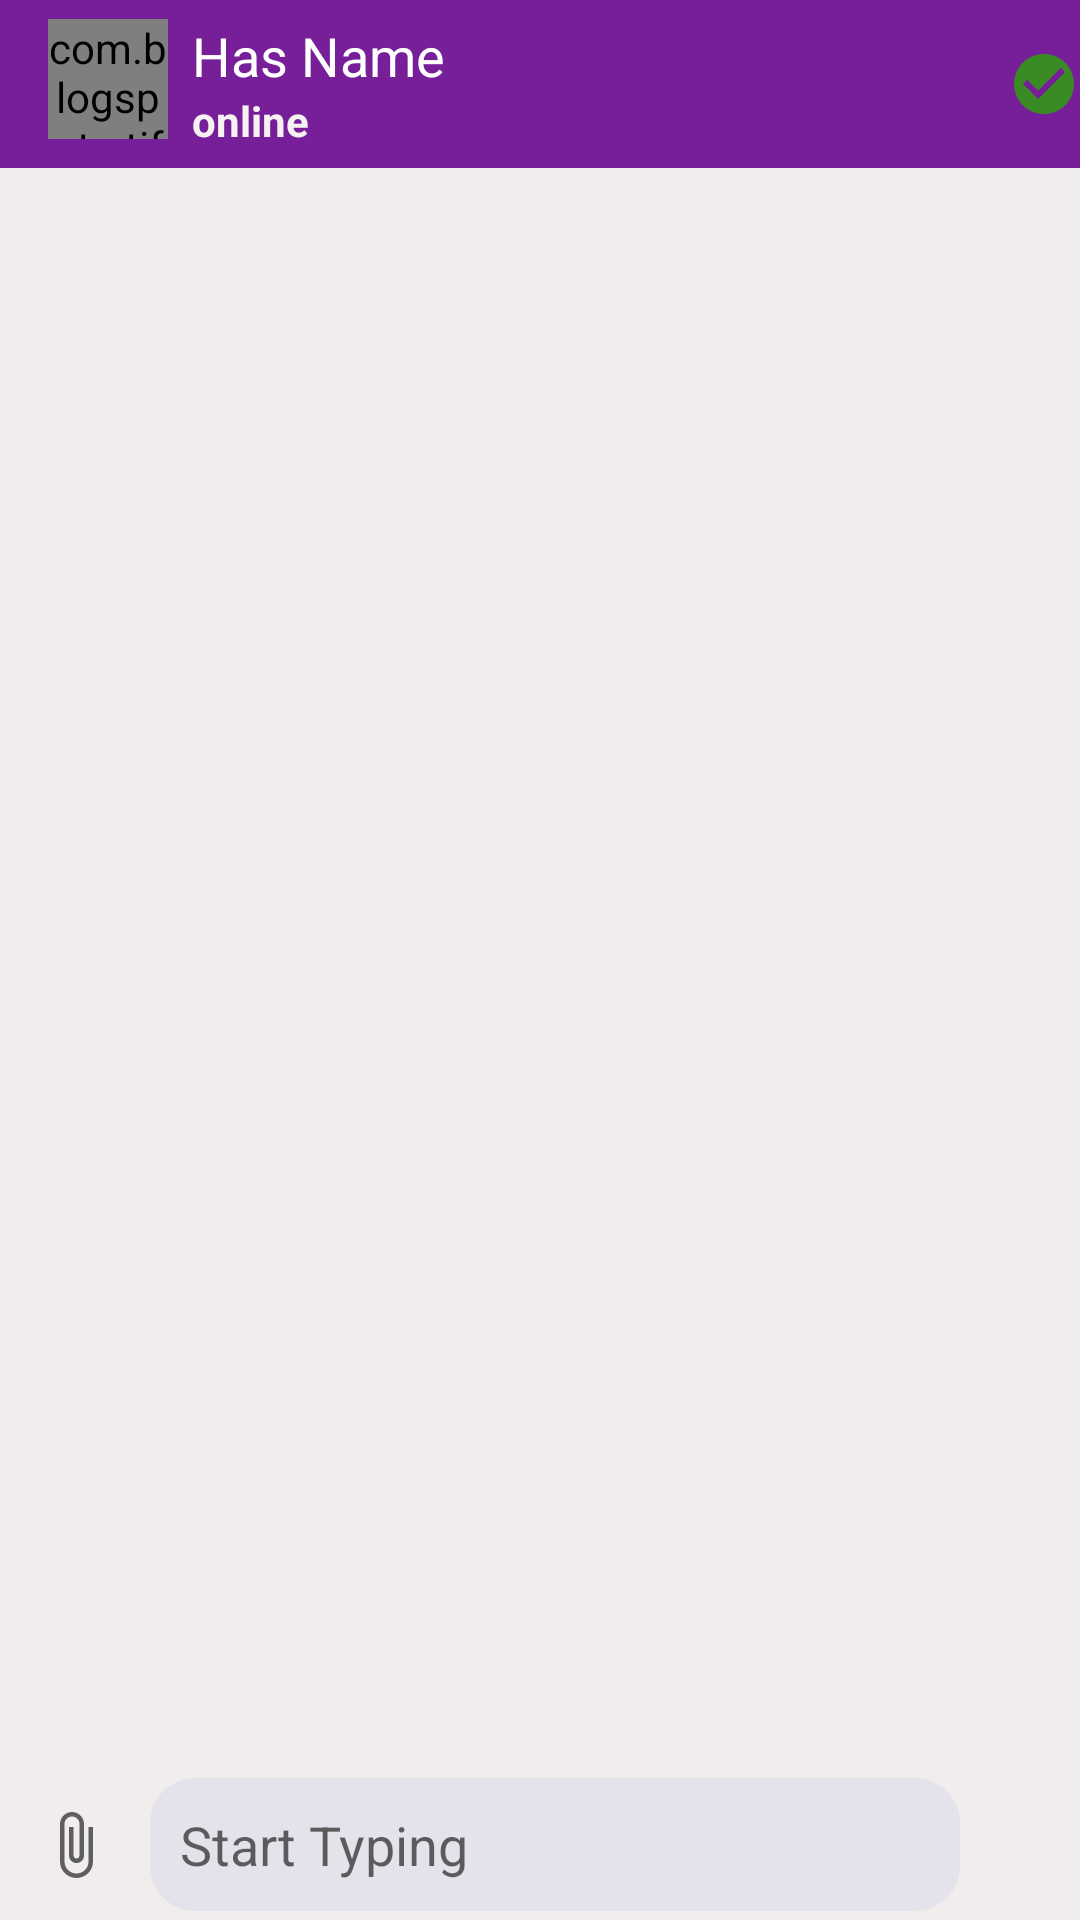

Locate icon controls on the screen. Image size 1080×1920, boxes as box=[x1, y1, x2, y2].
attach: box=[60, 1812, 93, 1878]
unblocked: box=[1014, 54, 1074, 114]
